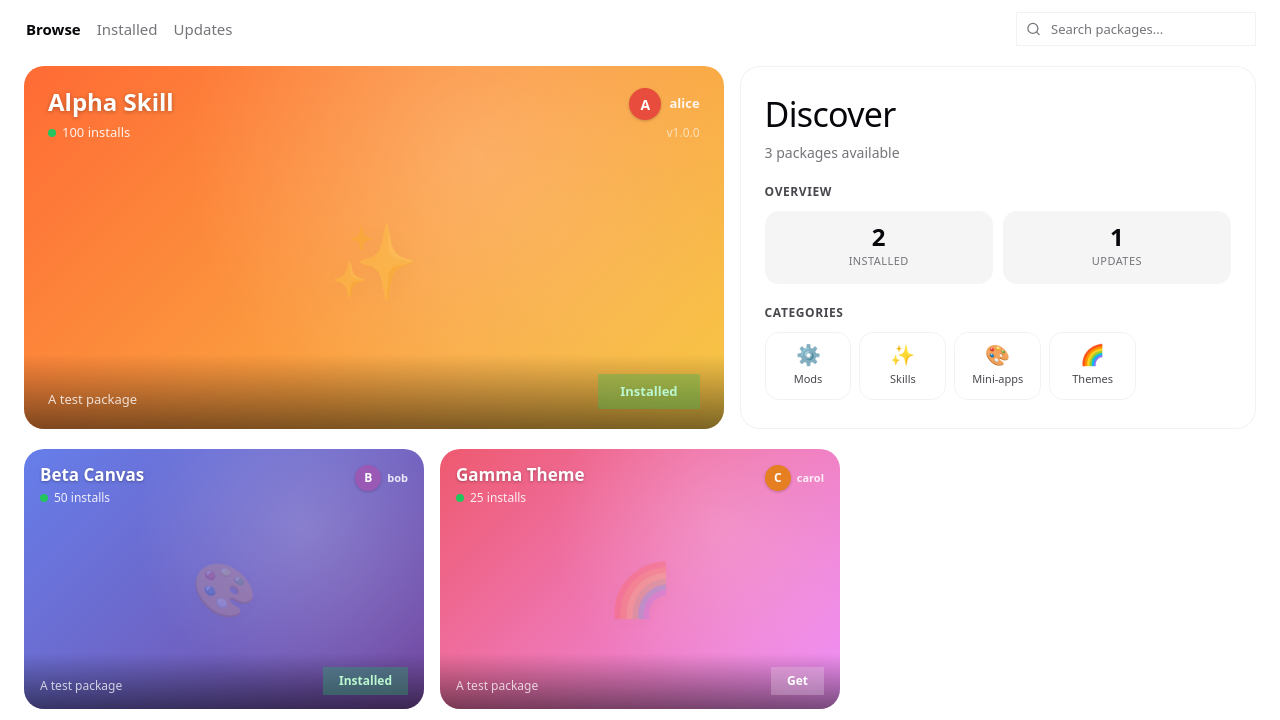
Test: UpdatesList › does not show packages that are up to date in updates list
This screenshot has width=1280, height=720.
Click the button with class "store-header-tab" showing "Updates".
click(203, 29)  # box [172,14,234,44]
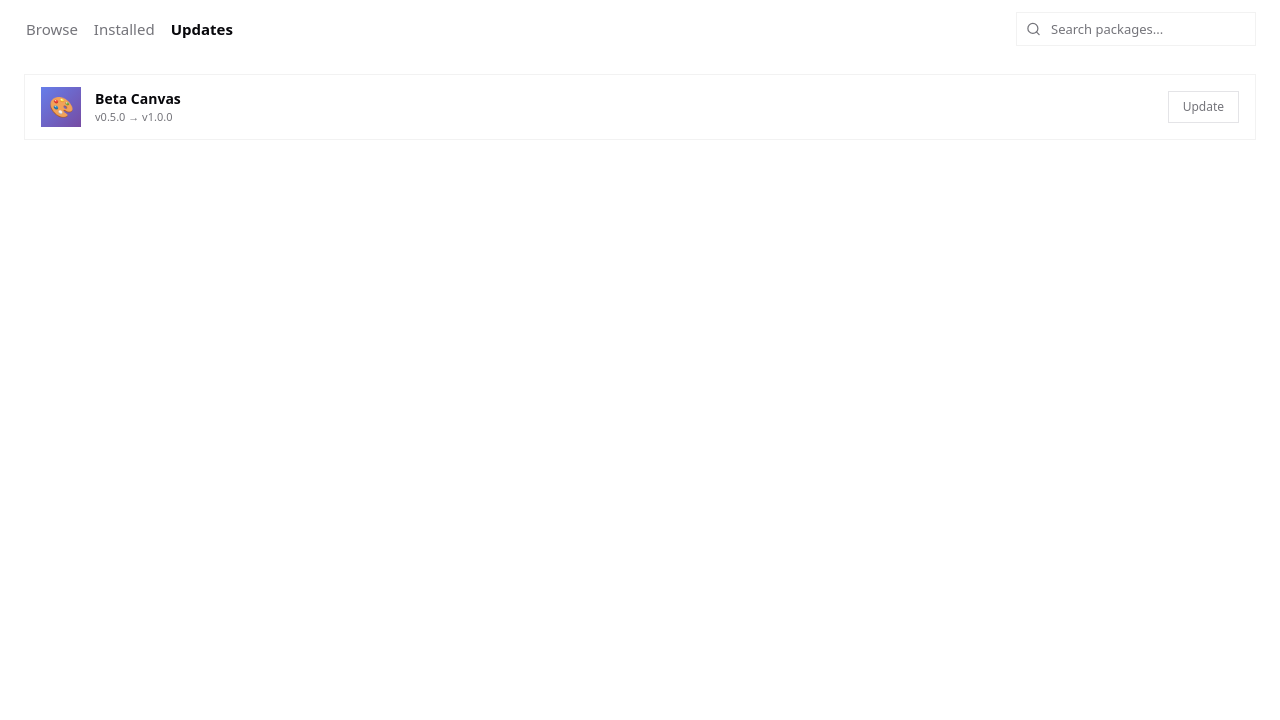
Expected: the text with class "store-installed-name" reads "Beta Canvas", [95,89,181,108]
Expected: the number of elements with class "store-installed-item" is 1, [24,74,1256,140]
